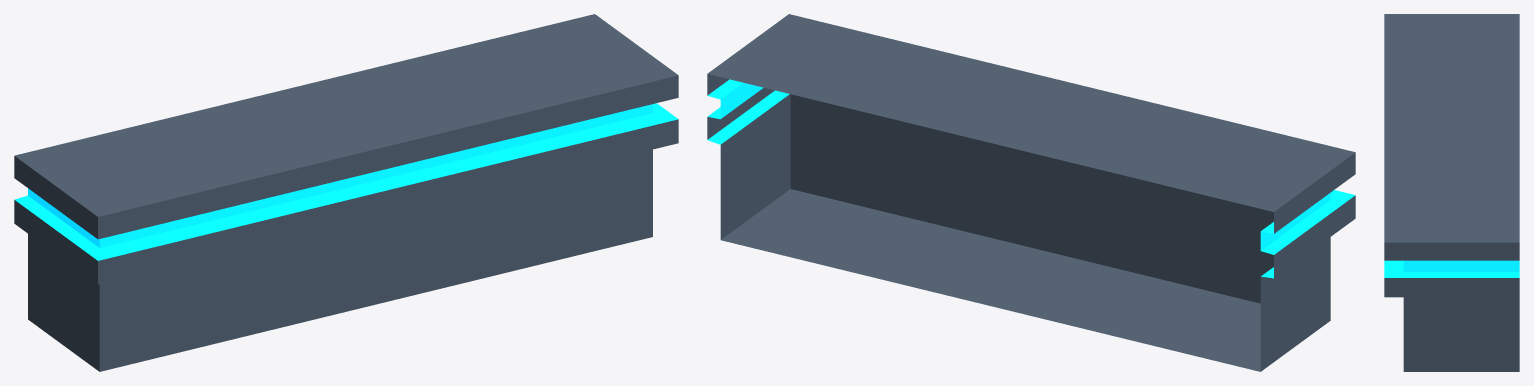
The model's file is tableWall.fbx.
The picture shows the model from 3 angles, left to right: view 1: azimuth 30°, elevation 25°; view 2: azimuth 150°, elevation 25°; view 3: azimuth 270°, elevation 25°; orthographic projection. The views are drawn at different scales.
Visible parts, largest first — view 1: LabTableWall; view 2: LabTableWall; view 3: LabTableWall.
Part boxes in pixels (bbox=[...]): LabTableWall: bbox=[14, 14, 678, 371]; LabTableWall: bbox=[707, 14, 1355, 371]; LabTableWall: bbox=[1384, 14, 1519, 371].
Bounding box in the file's own units: 400 × 110 × 100.
